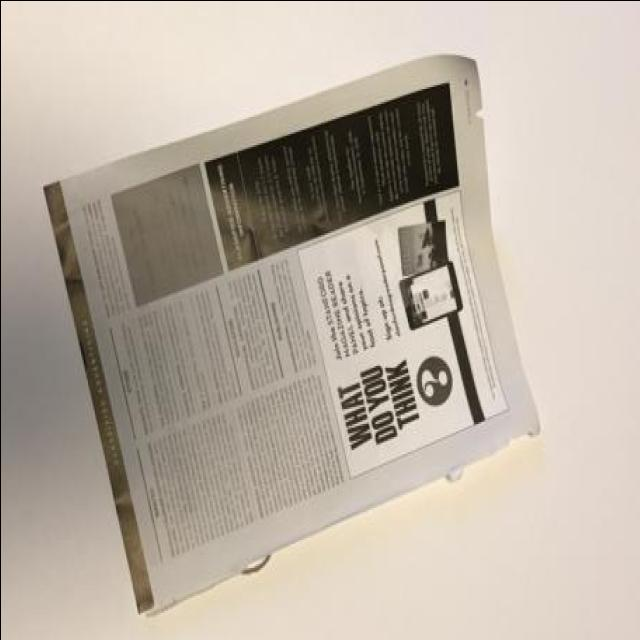kertas: (41, 52, 540, 618)
